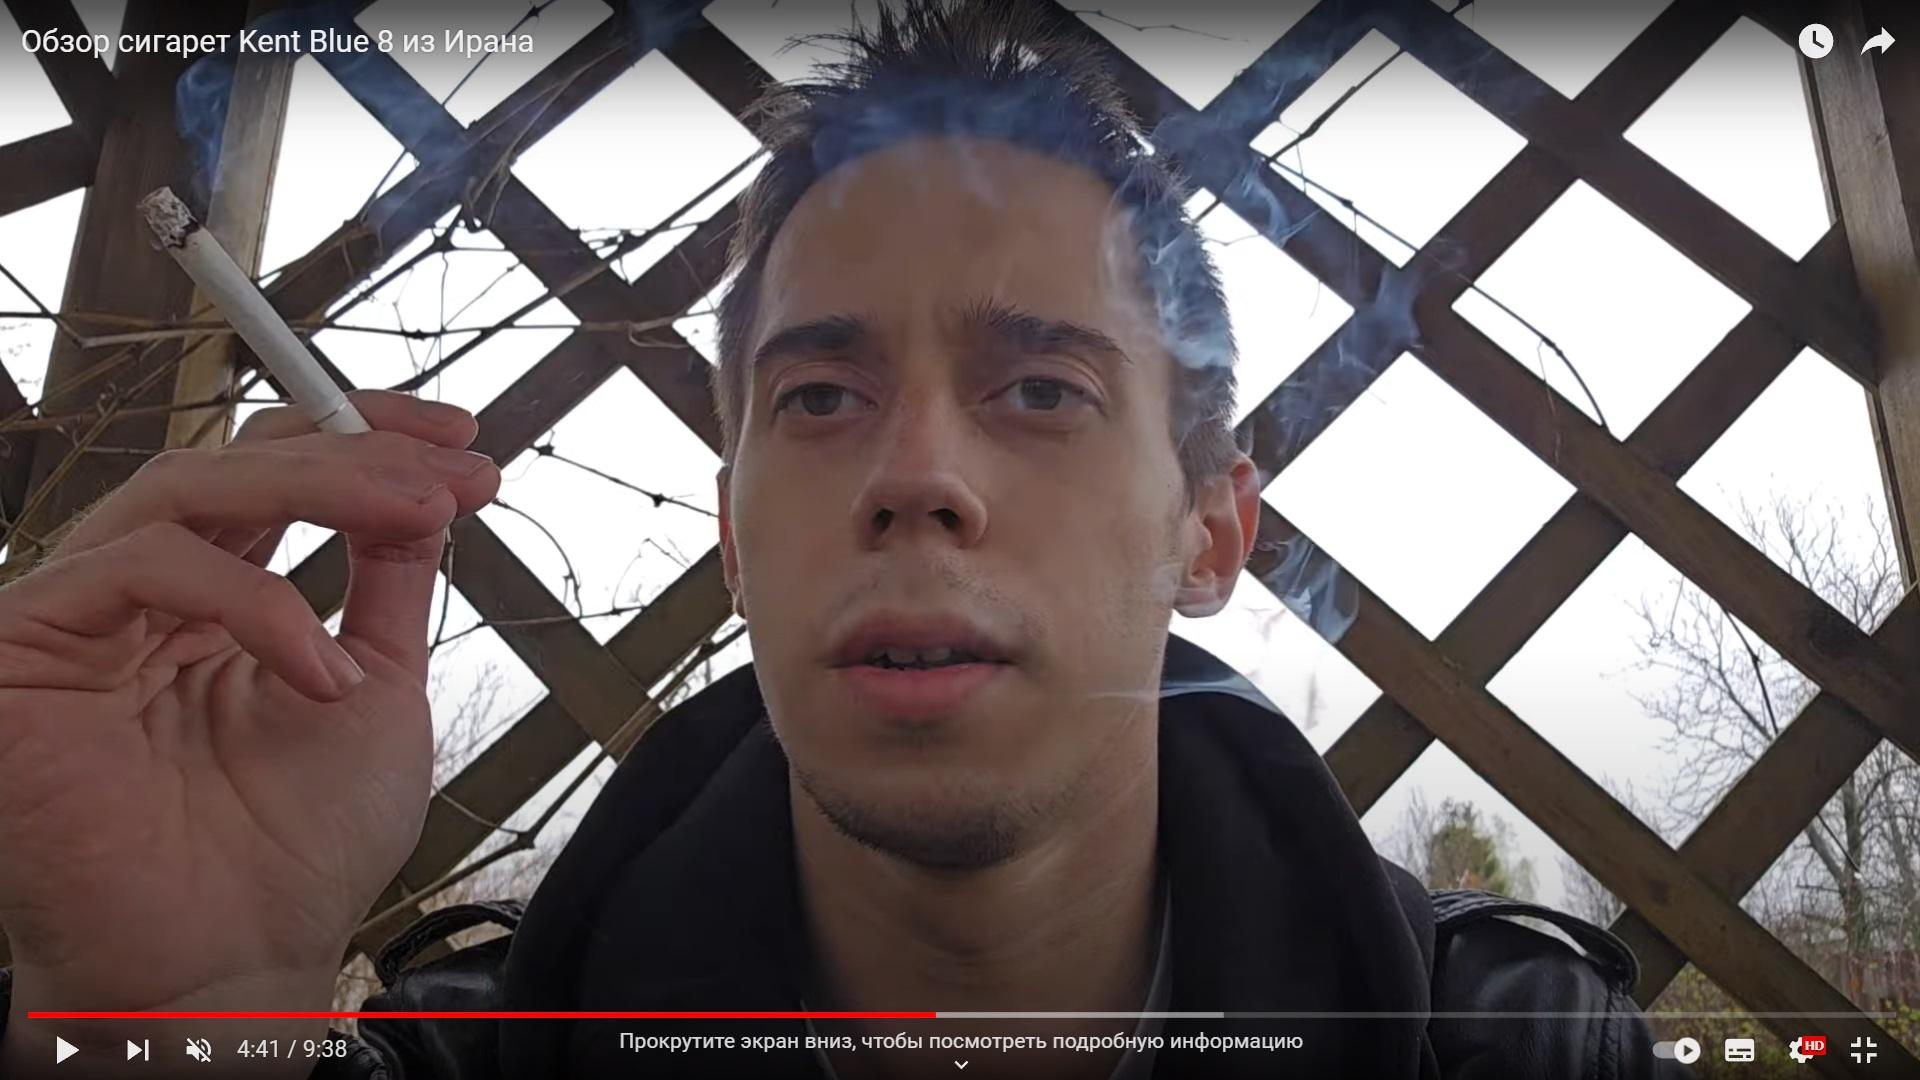cigarette: (138, 185, 375, 434)
